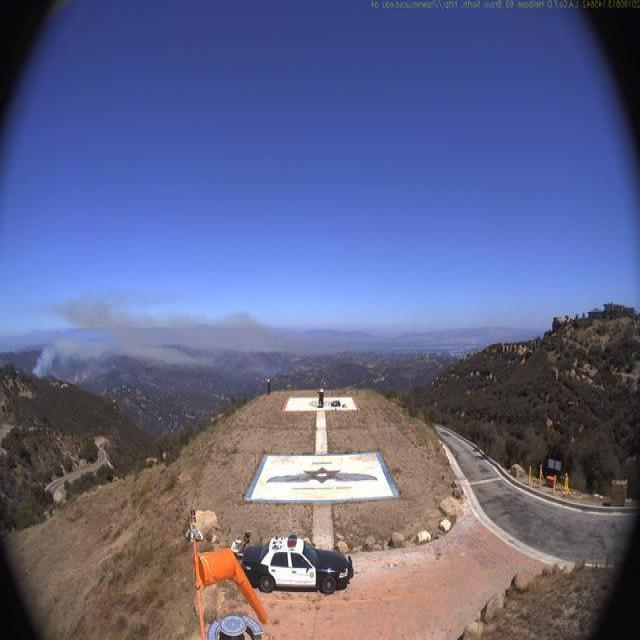Smoke: (35, 304, 211, 384)
